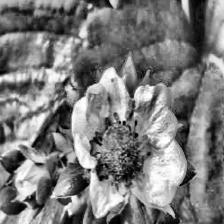Blossom Blight: (87, 110, 155, 198)
